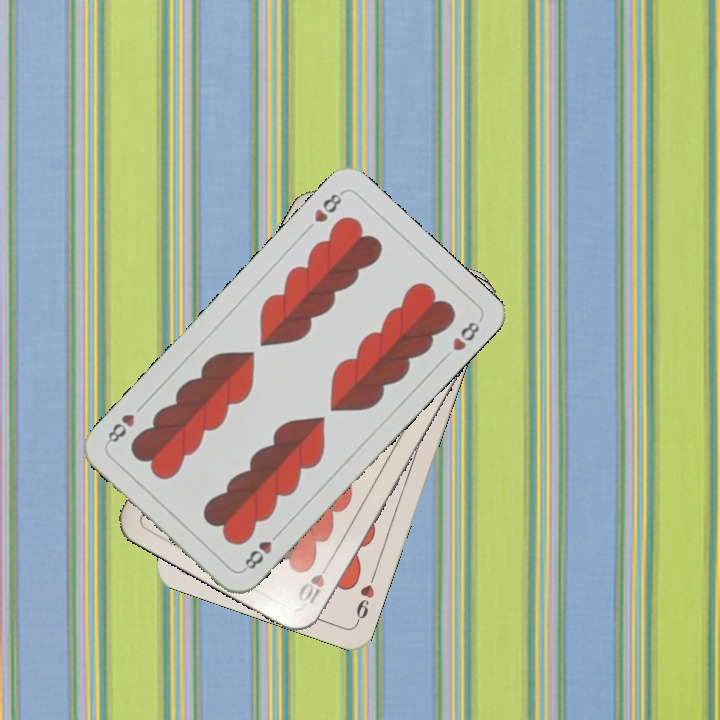H10: (293, 555, 335, 607)
H8: (239, 526, 284, 574), (310, 187, 346, 225)
H9: (352, 569, 379, 626)
